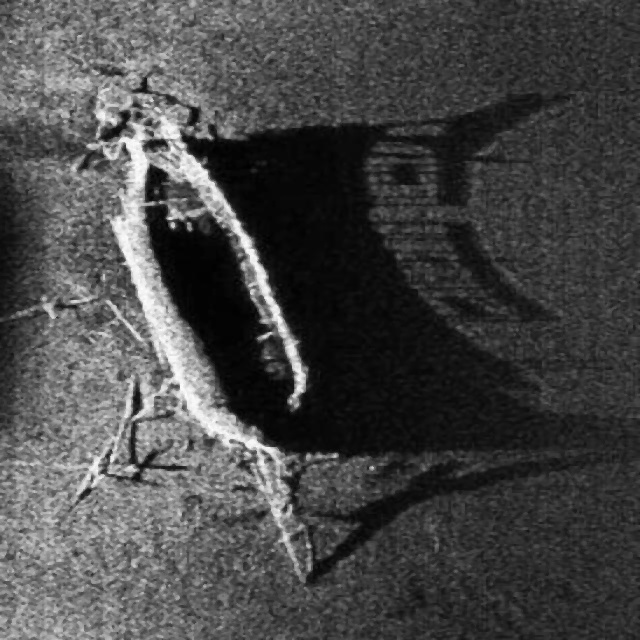Ship: (84, 84, 354, 596)
